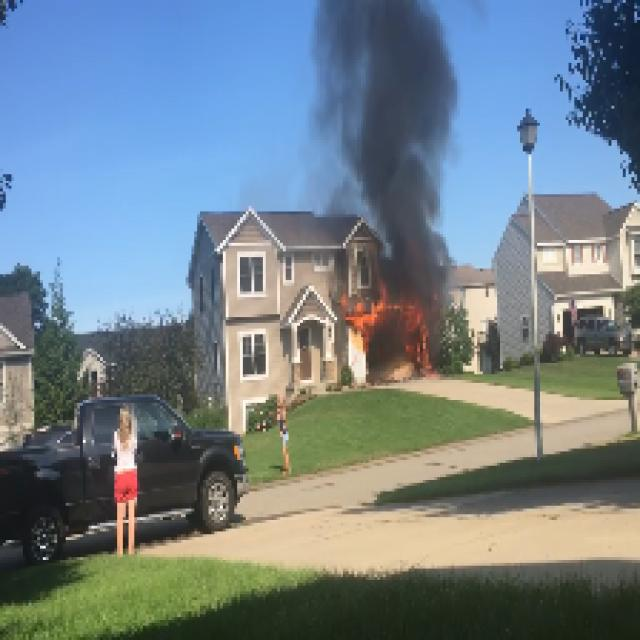smoke: (366, 20, 452, 302)
